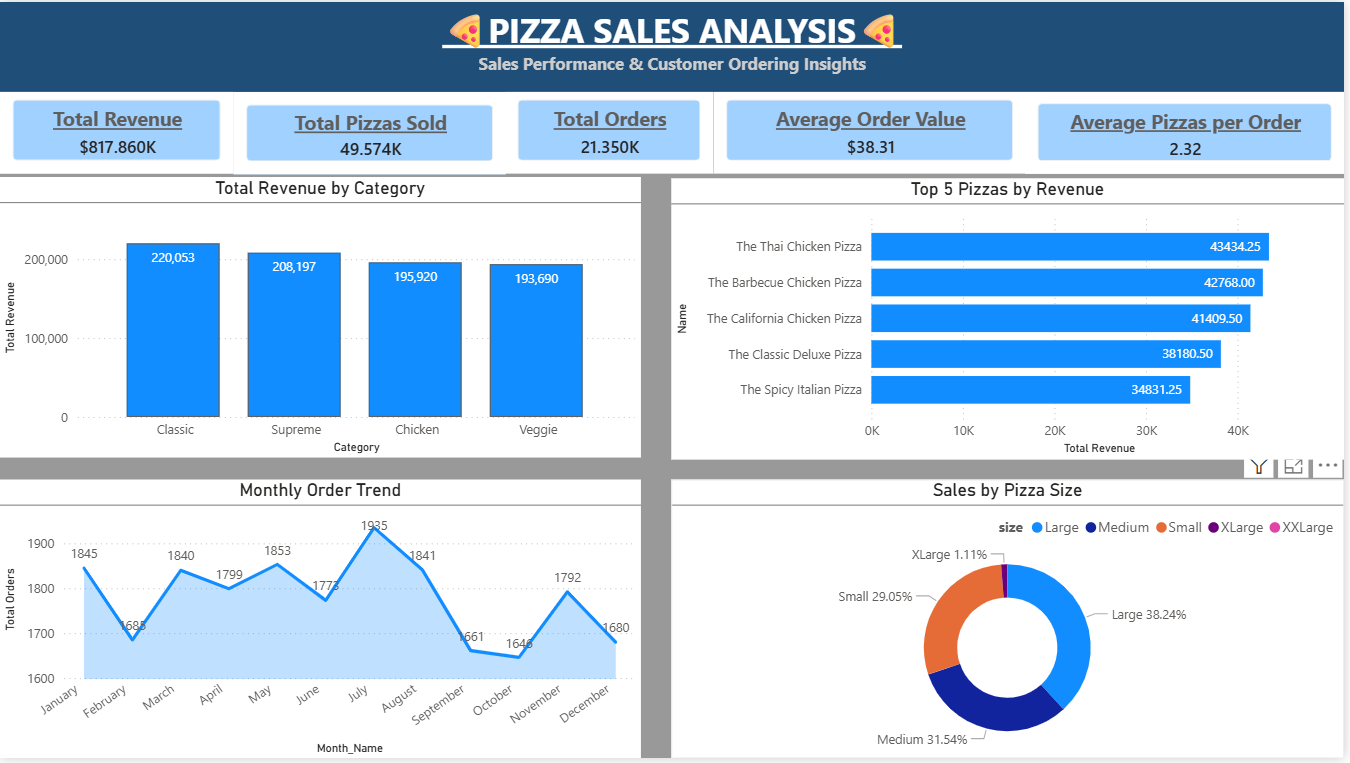

What the dashboard file says about the page in this screenshot:
{"tool":"powerbi","page":{"name":"🍕 Sales Overview","canvas":[1280,720],"ordinal":0},"visuals":[{"type":"cardVisual","fields":{"Data":["Order_Details.Total Revenue"]},"box":[0,81.4,222.9,82],"z":0},{"type":"cardVisual","fields":{"Data":["Order_Details.Total Pizzas Sold"]},"box":[222.7,86,259.3,78],"z":1000},{"type":"cardVisual","fields":{"Data":["Order_Details.Total Orders"]},"box":[481.4,81.4,198.6,82],"z":2000},{"type":"cardVisual","fields":{"Data":["Order_Details.Average Order Value"]},"box":[680,81.4,297.1,82],"z":3000},{"type":"cardVisual","fields":{"Data":["Order_Details.Average Pizzas per Order"]},"box":[975.7,84.3,304.3,79.3],"z":4000},{"type":"clusteredColumnChart","fields":{"Category":["Pizza_Types.Category"],"Y":["Order_Details.Total Revenue"]},"box":[0,167.1,610,267.1],"z":5000},{"type":"lineChart","title":"Monthly Order Trend","fields":{"Y":["Order_Details.Total Orders"],"Category":["Orders.Month_Name"]},"box":[0,454.3,610,265.7],"z":6000},{"type":"donutChart","title":"Sales by Pizza Size","fields":{"Category":["Pizzas.size"],"Y":["Order_Details.Total Pizzas Sold"]},"box":[639.4,454.9,626.8,264.8],"z":7000},{"type":"barChart","title":"Top 5 Pizzas by Revenue","fields":{"Category":["Pizza_Types.Name"],"Y":["Order_Details.Total Revenue"]},"box":[639.4,167.6,626.8,267.6],"z":8000},{"type":"textbox","box":[0,0,1280.3,85.9],"z":9000}]}

Visuals, with their boxes in screenshot pixels (x1, y1, x2, y2), scaled from the page's 1280x720 canvas onto the 1350x763 screenshot:
cardVisual - Order_Details.Total Revenue: l=0, t=86, r=235, b=173
cardVisual - Order_Details.Total Pizzas Sold: l=235, t=91, r=508, b=174
cardVisual - Order_Details.Total Orders: l=508, t=86, r=717, b=173
cardVisual - Order_Details.Average Order Value: l=717, t=86, r=1031, b=173
cardVisual - Order_Details.Average Pizzas per Order: l=1029, t=89, r=1349, b=173
clusteredColumnChart - Pizza_Types.Category x Order_Details.Total Revenue: l=0, t=177, r=643, b=460
"Monthly Order Trend" lineChart: l=0, t=481, r=643, b=762
"Sales by Pizza Size" donutChart: l=674, t=482, r=1335, b=762
"Top 5 Pizzas by Revenue" barChart: l=674, t=178, r=1335, b=461
textbox: l=0, t=0, r=1349, b=91
